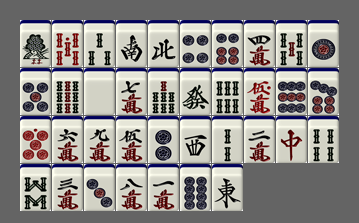0m: (244, 68, 275, 115)
0p: (20, 116, 51, 163)
0s: (52, 20, 83, 67)
1m: (148, 164, 179, 211)
1p: (308, 20, 339, 67)
1s: (20, 20, 51, 67)
1z: (212, 164, 243, 211)
2m: (244, 116, 275, 163)
2p: (148, 116, 179, 163)
2s: (212, 116, 243, 163)
2z: (116, 20, 147, 67)
3m: (52, 164, 83, 211)
3p: (84, 164, 115, 211)
3s: (84, 20, 115, 67)
3z: (180, 116, 211, 163)
4m: (244, 20, 275, 67)
4p: (180, 20, 211, 67)
4s: (308, 116, 339, 163)
4z: (148, 20, 179, 67)
5m: (116, 116, 147, 163)
5p: (20, 68, 51, 115)
5s: (276, 20, 307, 67)
5z: (84, 68, 115, 115)
6m: (52, 116, 83, 163)
6p: (212, 20, 243, 67)
6s: (212, 68, 243, 115)
6z: (180, 68, 211, 115)
7m: (116, 68, 147, 115)
7p: (308, 68, 339, 115)
7s: (148, 68, 179, 115)
7z: (276, 116, 307, 163)
8m: (116, 164, 147, 211)
8p: (180, 164, 211, 211)
8s: (20, 164, 51, 211)
9m: (84, 116, 115, 163)
9p: (276, 68, 307, 115)
9s: (52, 68, 83, 115)
